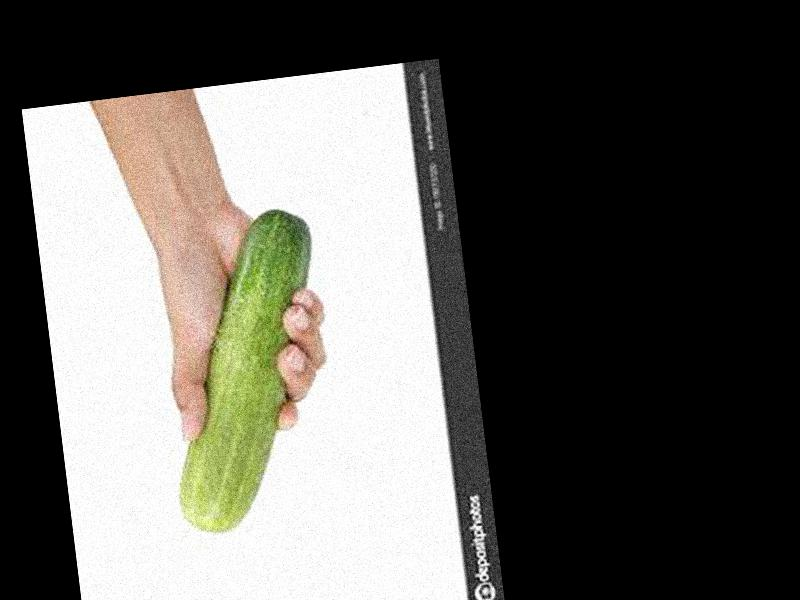Cucumber: (144, 205, 342, 535)
